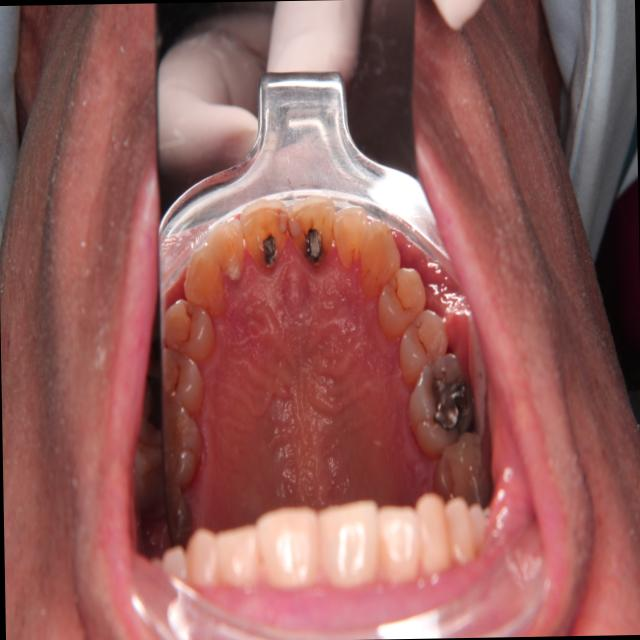tooth: (400, 346, 462, 460), (233, 192, 302, 292), (349, 213, 410, 298), (157, 395, 211, 491), (284, 190, 342, 277), (375, 260, 434, 341), (162, 288, 220, 369), (205, 215, 258, 298), (176, 245, 233, 322), (394, 303, 448, 384), (328, 197, 373, 281), (160, 343, 207, 417), (162, 475, 195, 553), (431, 439, 461, 501)
